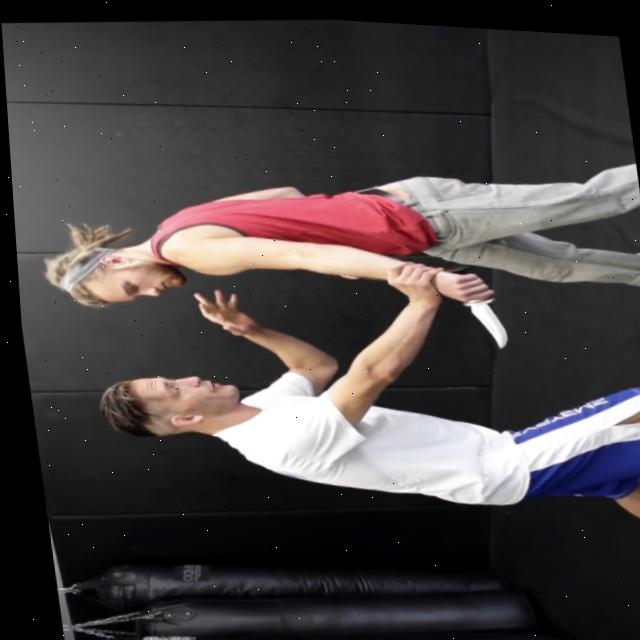knife: (457, 288, 505, 344)
